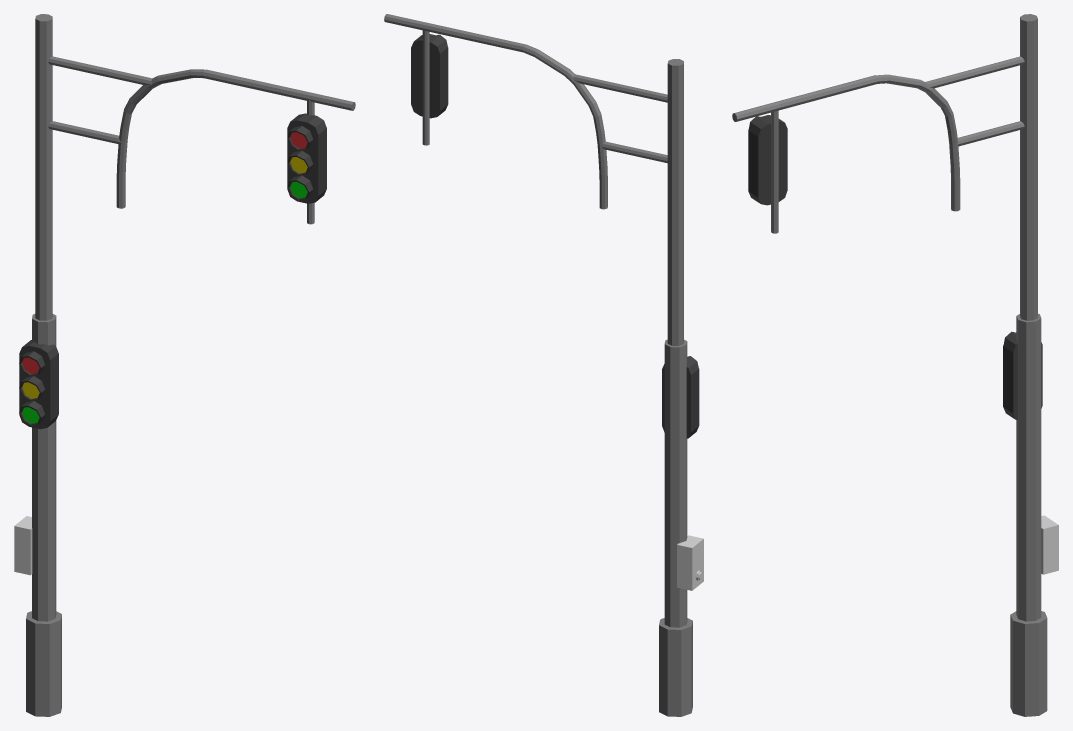
Rendered from Traffic Light2.fbx.
The picture shows the model from 3 angles, left to right: view 1: azimuth 30°, elevation 25°; view 2: azimuth 210°, elevation 25°; view 3: azimuth 270°, elevation 25°; orthographic projection. The views are drawn at different scales.
Parts seen in each view (by area): view 1: Traffic_Light2; view 2: Traffic_Light2; view 3: Traffic_Light2.
Boxes of the visible parts, left/top/right/bottom form: Traffic_Light2: left=14, top=14, right=355, bottom=716; Traffic_Light2: left=384, top=14, right=703, bottom=716; Traffic_Light2: left=732, top=14, right=1058, bottom=716.
Size of the model in its own units: 95.19 by 326 by 139.
